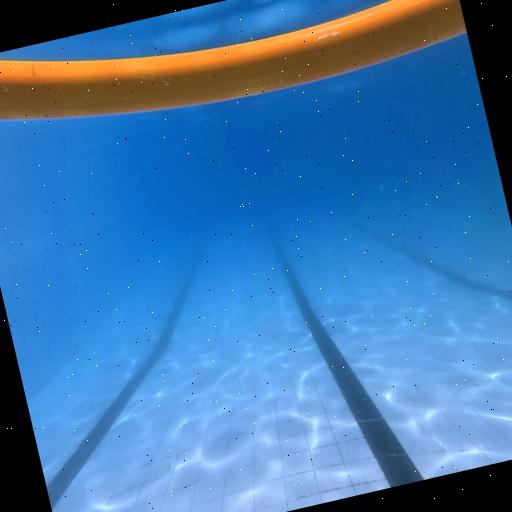upper_gate: (0, 0, 470, 161)
